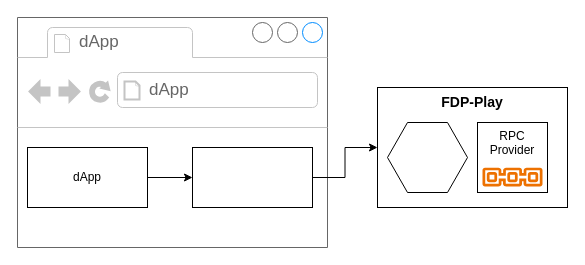
This 585x265 diagram has some shape labels left out. Each missing label, with the centre of its shape:
"Bee" goes at [427,157].
"FDP-Storage" goes at [252,177].
